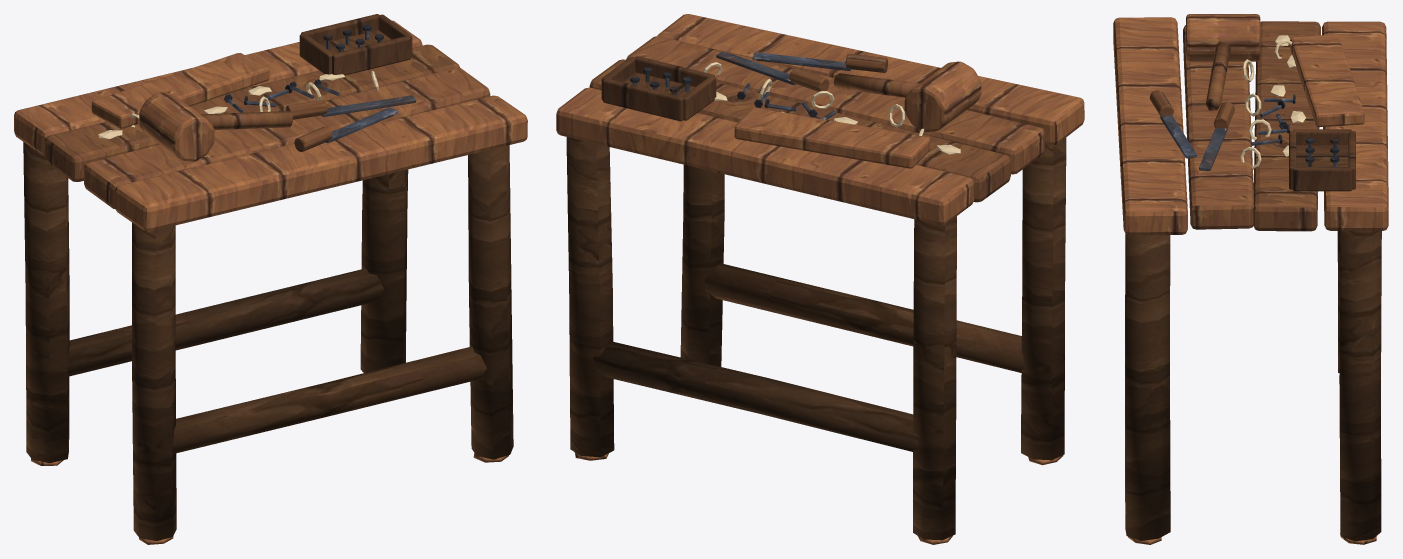
The model's file is workbench_clutter.glb.
The picture shows the model from 3 angles, left to right: view 1: azimuth 30°, elevation 25°; view 2: azimuth 150°, elevation 25°; view 3: azimuth 270°, elevation 25°; orthographic projection. The views are drawn at different scales.
Visible parts, largest first — view 1: model; view 2: model; view 3: model.
Part boxes in pixels (<box>): model: <box>14,14,527,544</box>; model: <box>556,14,1084,544</box>; model: <box>1113,14,1388,544</box>.
Bounding box in the file's own units: 0.904 × 0.861 × 0.5551.
10 materials, 9 textured.
